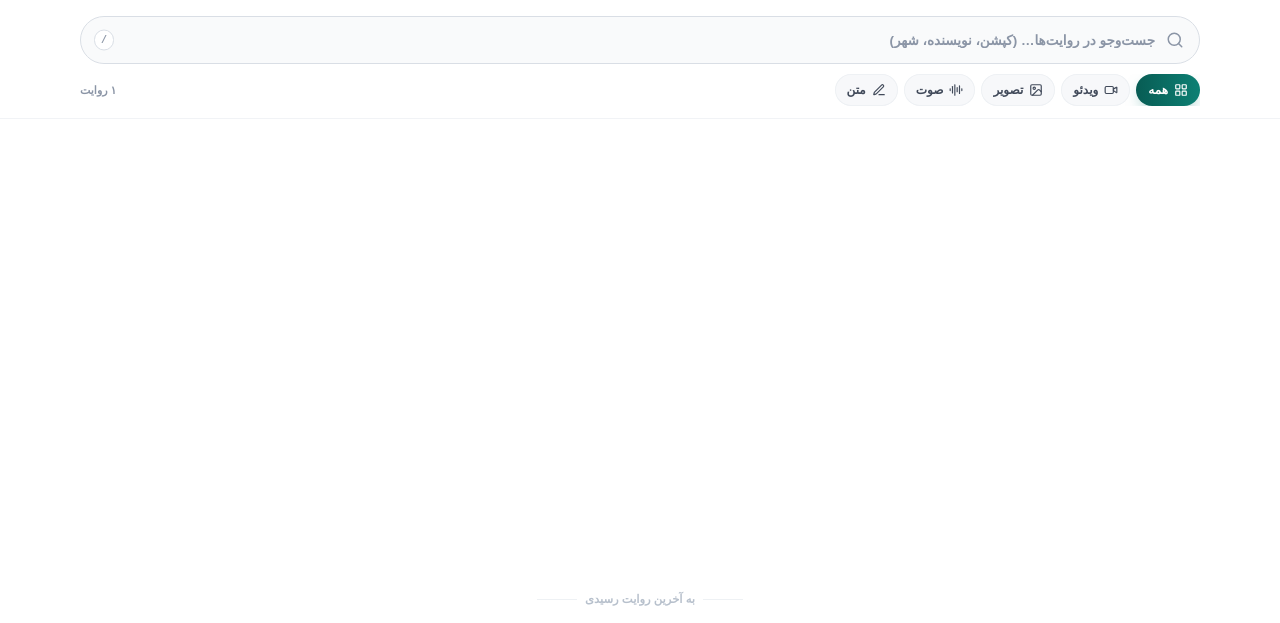
RevayatFeed › متادیتای ناقص به عدد دقیق تبدیل نمی‌شود
Click the button "متن" at (866, 90), box [834,74,898,106]
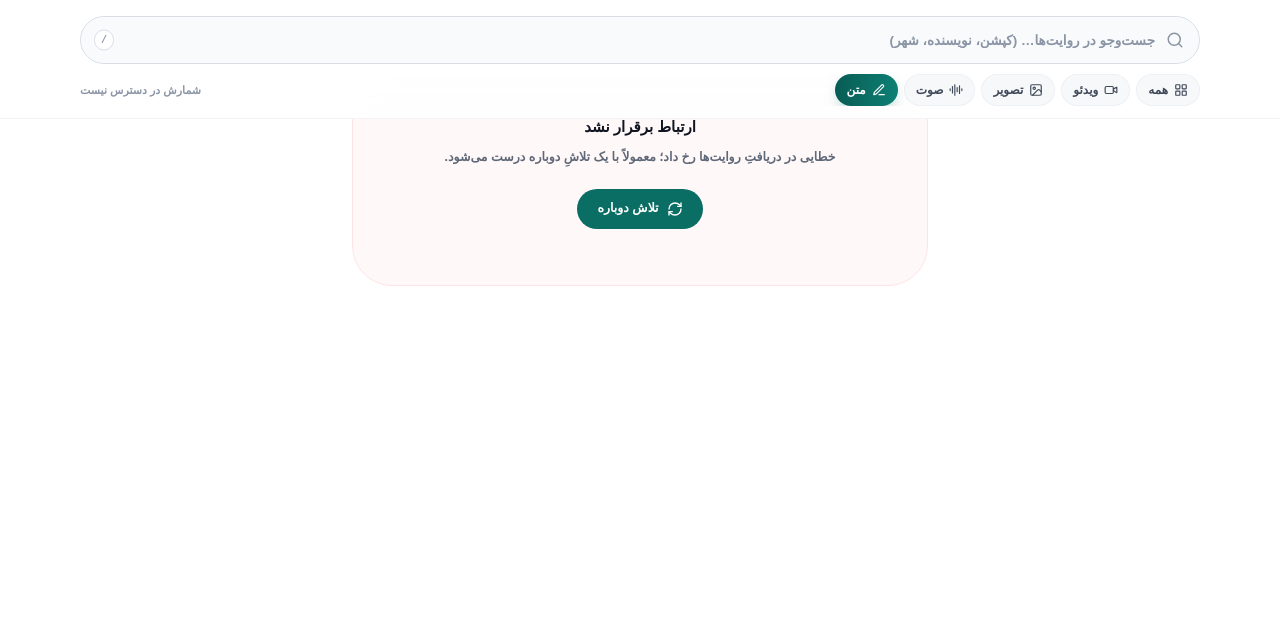
Now the text "ارتباط برقرار نشد" is shown, box [584,118,696,135]
